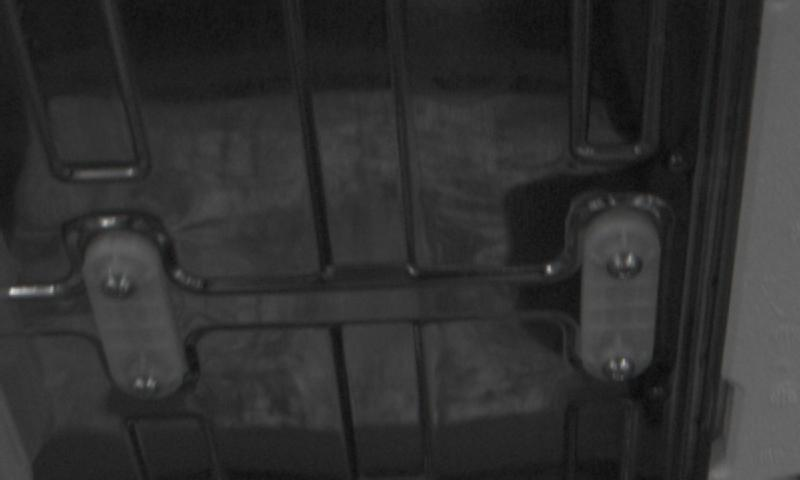vida-ok: (101, 264, 147, 308), (600, 246, 647, 289), (589, 351, 635, 390), (127, 367, 172, 406)
